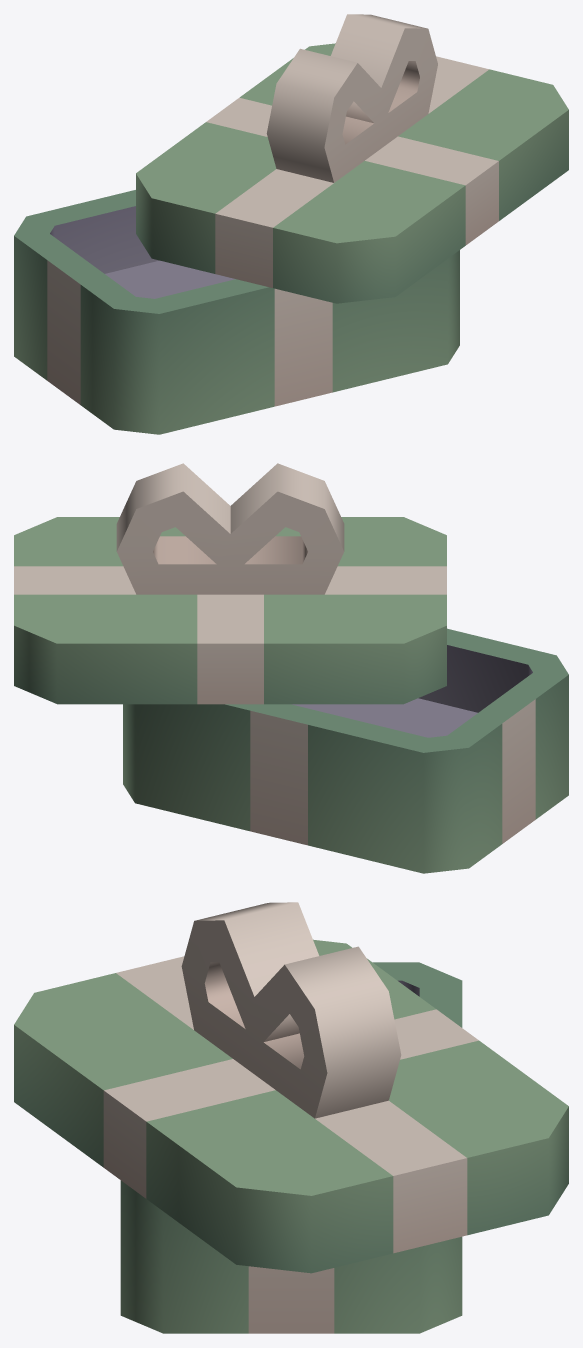
The model's file is present-open-c.glb.
3 views of the same model, one above another, from view 1: azimuth 30°, elevation 25°; view 2: azimuth 150°, elevation 25°; view 3: azimuth 270°, elevation 25° (orthographic). The views are drawn at different scales.
Visible parts, largest first — view 1: present-open-c; view 2: present-open-c; view 3: present-open-c.
Part boxes in pixels (<box>): present-open-c: <box>14,14,568,434</box>; present-open-c: <box>14,463,568,873</box>; present-open-c: <box>14,902,568,1333</box>.
Bounding box in the file's own units: 0.6462 × 0.353 × 0.4876.
